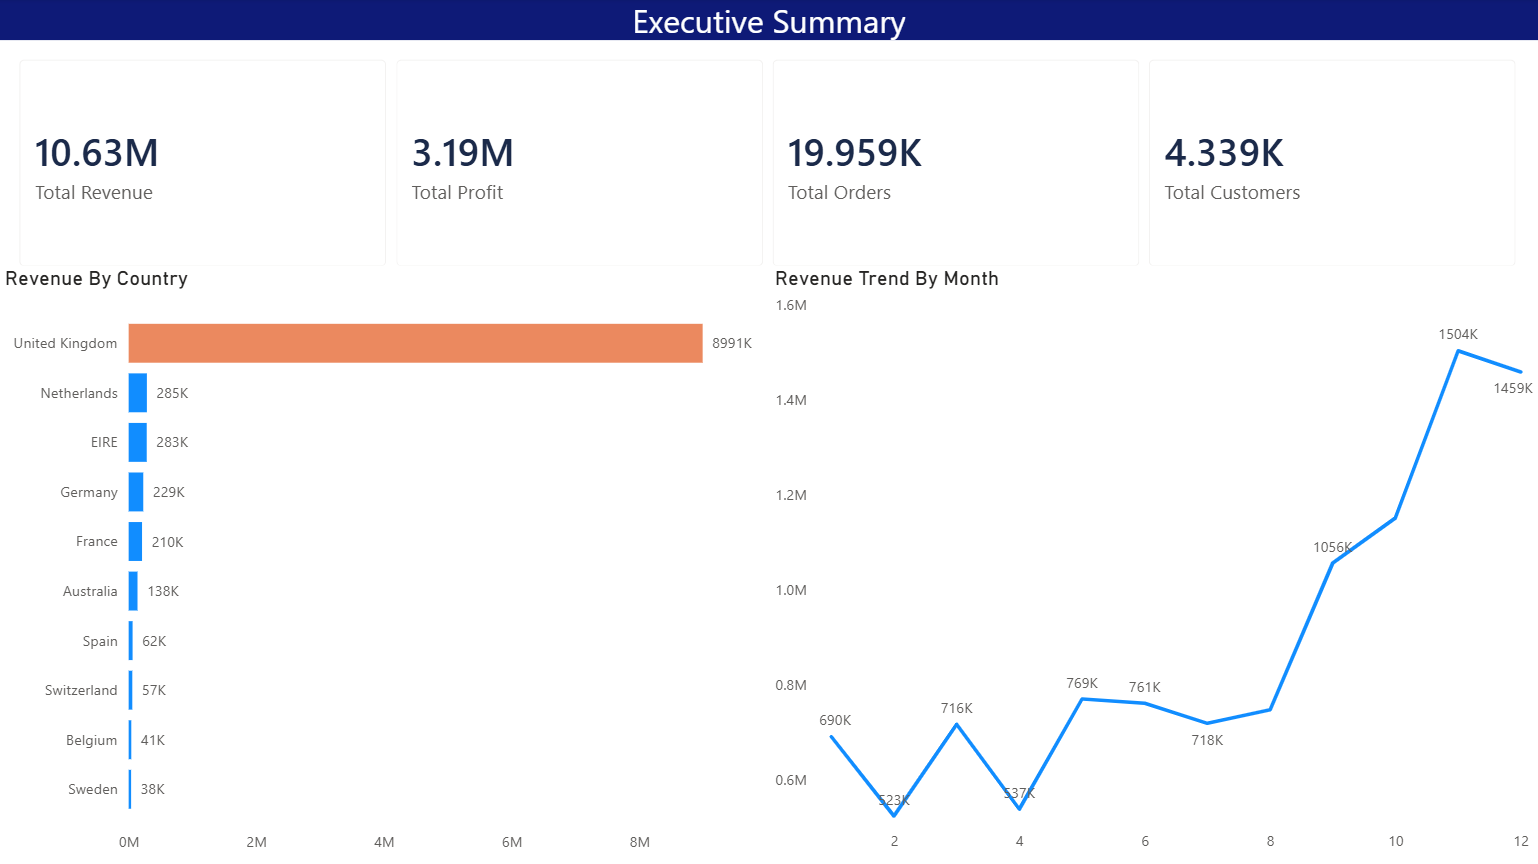

The page's visual inventory and layout, read from the dashboard file:
{"tool":"powerbi","page":{"name":"Executive Summary","canvas":[1280,720],"ordinal":0},"visuals":[{"type":"cardVisual","fields":{"Data":["Sum(cleaned_retail_data.Revenue)","Sum(cleaned_retail_data.Profit)","Count(cleaned_retail_data.Invoice)","Count(cleaned_retail_data.Customer ID)"]},"box":[0,33.9,1280.5,206.6],"z":0},{"type":"lineChart","title":"Revenue Trend By Month","fields":{"Y":["Sum(cleaned_retail_data.Revenue)"],"Category":["cleaned_retail_data.Month"]},"box":[640.2,222.4,640.2,496.8],"z":1000},{"type":"shape","box":[0,0,1280.5,33.9],"z":2000},{"type":"clusteredBarChart","title":"Revenue By Country","fields":{"Category":["cleaned_retail_data.Country"],"Y":["Sum(cleaned_retail_data.Revenue)"]},"box":[0,222.4,640.2,498],"z":3000}]}

Visuals, with their boxes in screenshot pixels (x1, y1, x2, y2), scaled from the page's 1280x720 canvas onto the 1538x864 screenshot:
cardVisual - Sum(cleaned_retail_data.Revenue) x Sum(cleaned_retail_data.Profit): left=0, top=41, right=1537, bottom=289
"Revenue Trend By Month" lineChart: left=769, top=267, right=1537, bottom=863
shape: left=0, top=0, right=1537, bottom=41
"Revenue By Country" clusteredBarChart: left=0, top=267, right=769, bottom=863
